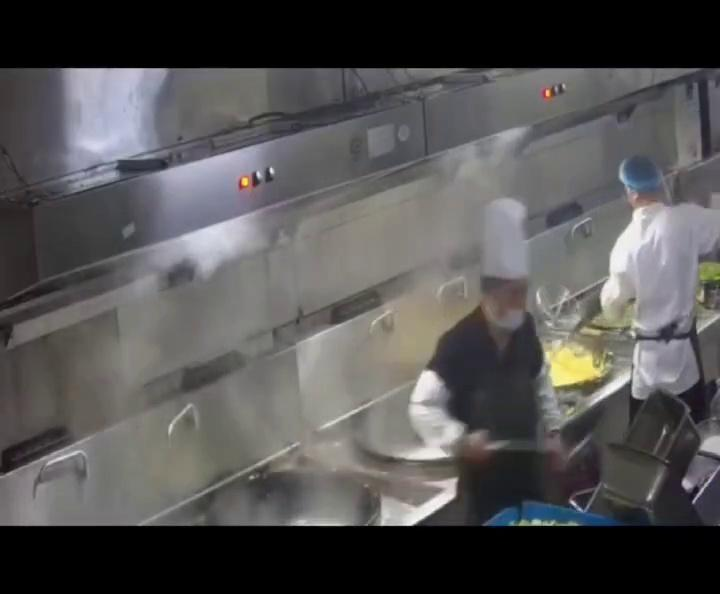mask: (496, 287, 530, 332)
